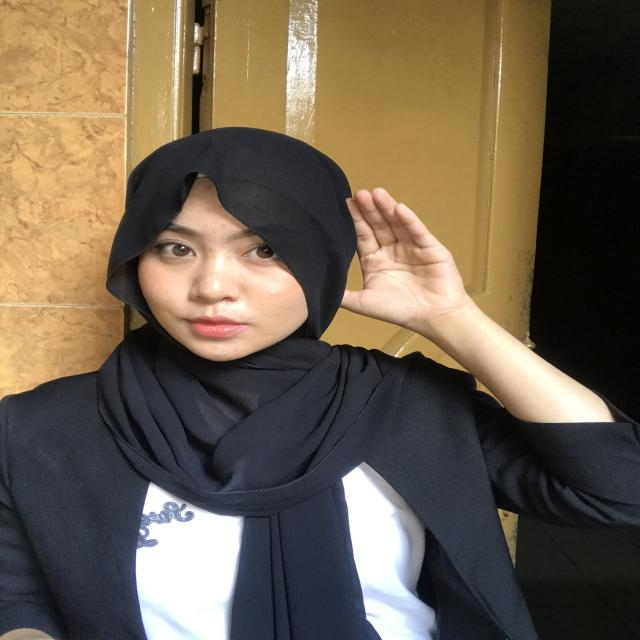mendengar: (292, 185, 478, 356)
